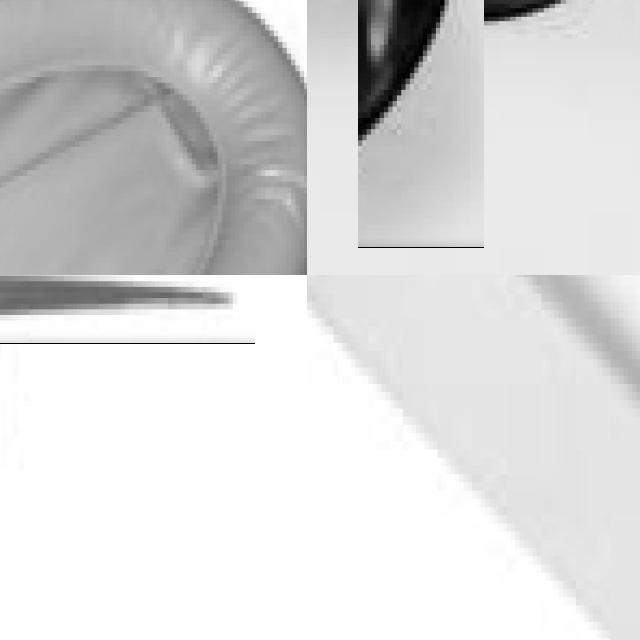forks: (0, 275, 131, 468)
spoons: (0, 0, 307, 275), (307, 0, 582, 150)
